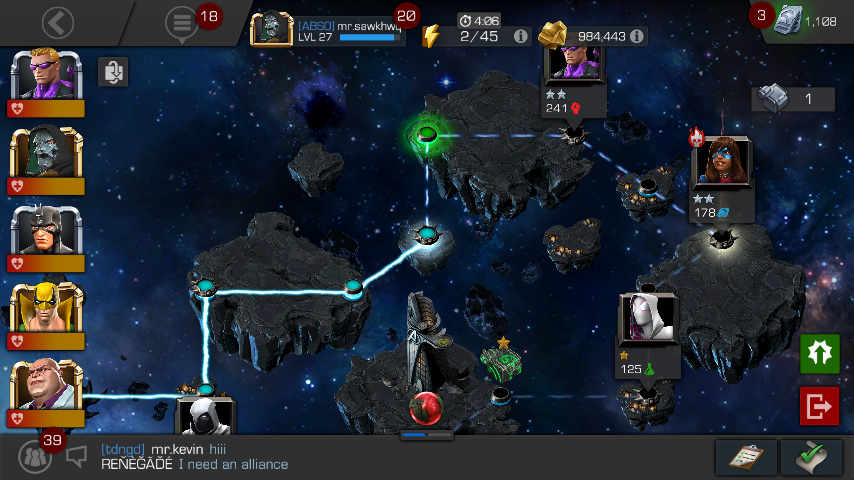green: (417, 127, 438, 143)
